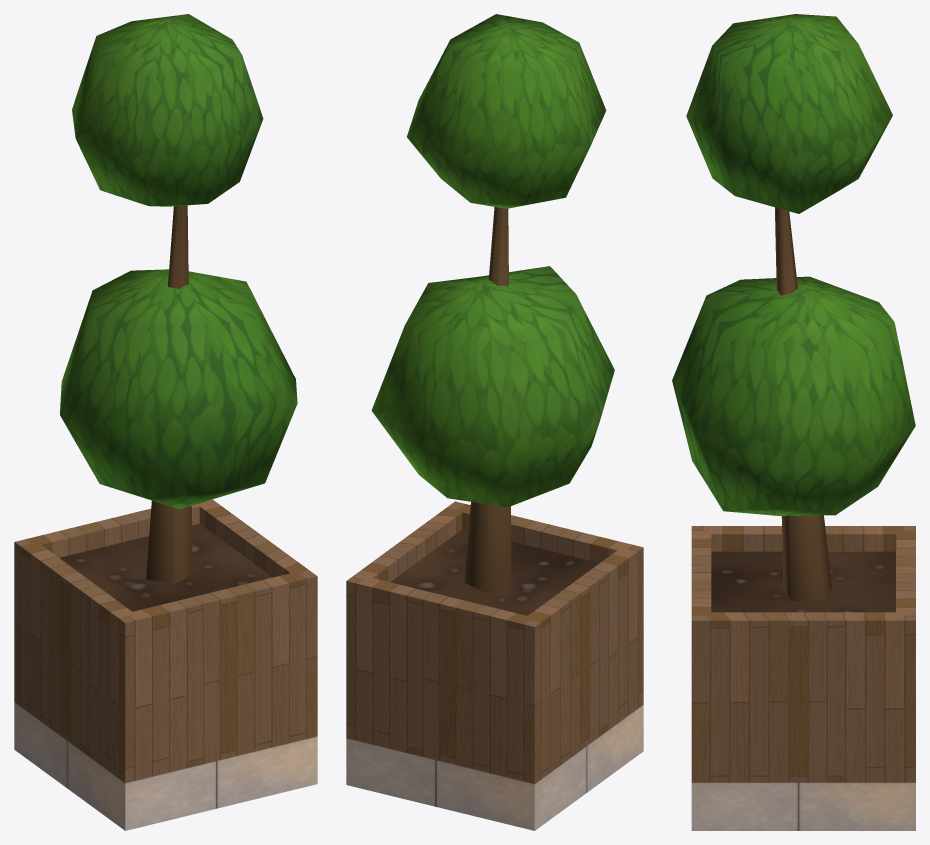
The model's file is PottedTree.fbx.
3 renders of one model, left to right at view 1: azimuth 30°, elevation 25°; view 2: azimuth 150°, elevation 25°; view 3: azimuth 270°, elevation 25°, orthographic. The views are drawn at different scales.
Visible parts, largest first — view 1: PottedTree; view 2: PottedTree; view 3: PottedTree.
Part boxes in pixels (x1,y1,x2,y2): PottedTree: [14, 14, 317, 830]; PottedTree: [346, 14, 643, 830]; PottedTree: [672, 14, 915, 830].
Size of the model in its own units: 120 by 380 by 111.
